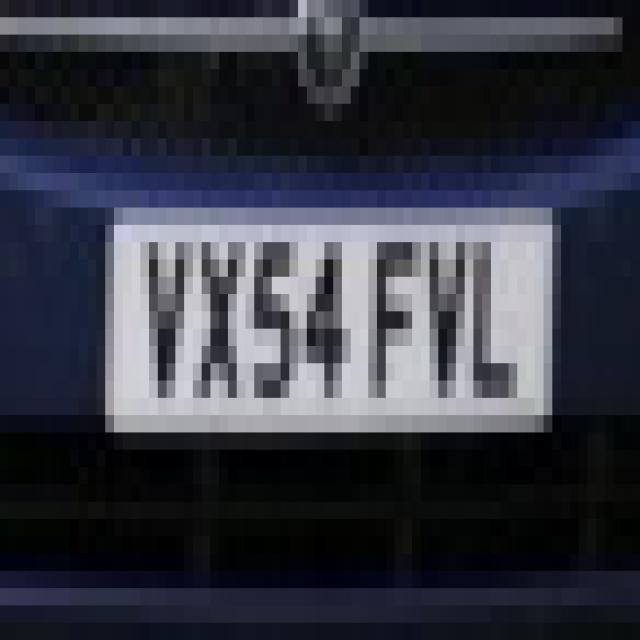4: (302, 215, 352, 420)
5: (248, 228, 298, 422)
F: (369, 213, 420, 414)
L: (469, 198, 527, 410)
V: (423, 226, 468, 422), (143, 228, 187, 418)
X: (194, 226, 246, 410)
